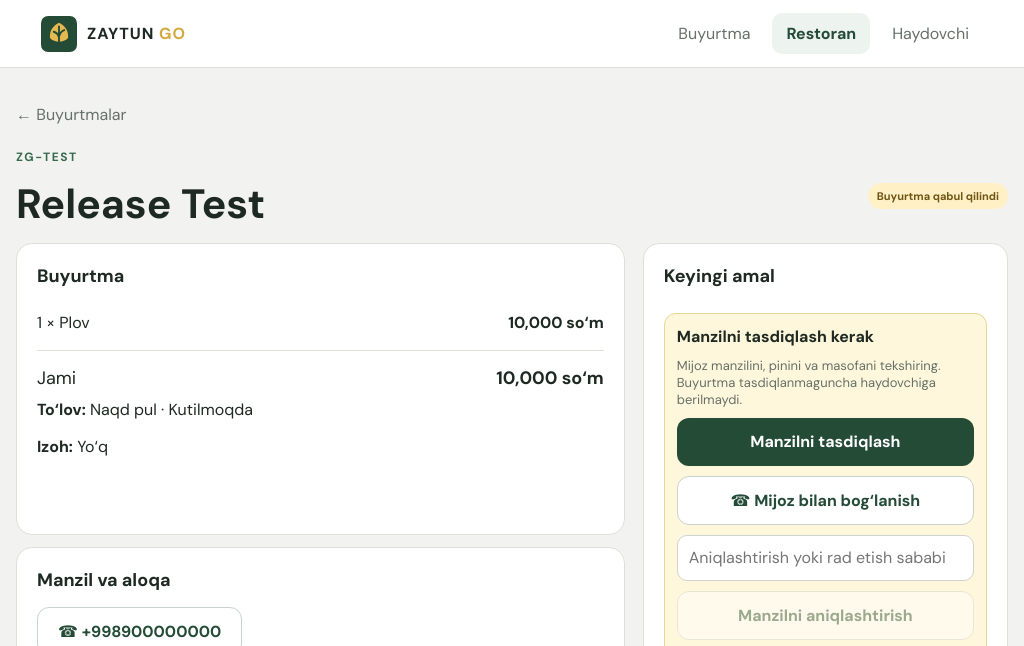
Test case: delivery address review and assignment guard (withOrderLock) › suppresses a rapid duplicate address approval, disables the button, and re-enables after success
Click the button with test id "approve-delivery": (825, 442) [677,418,974,466]
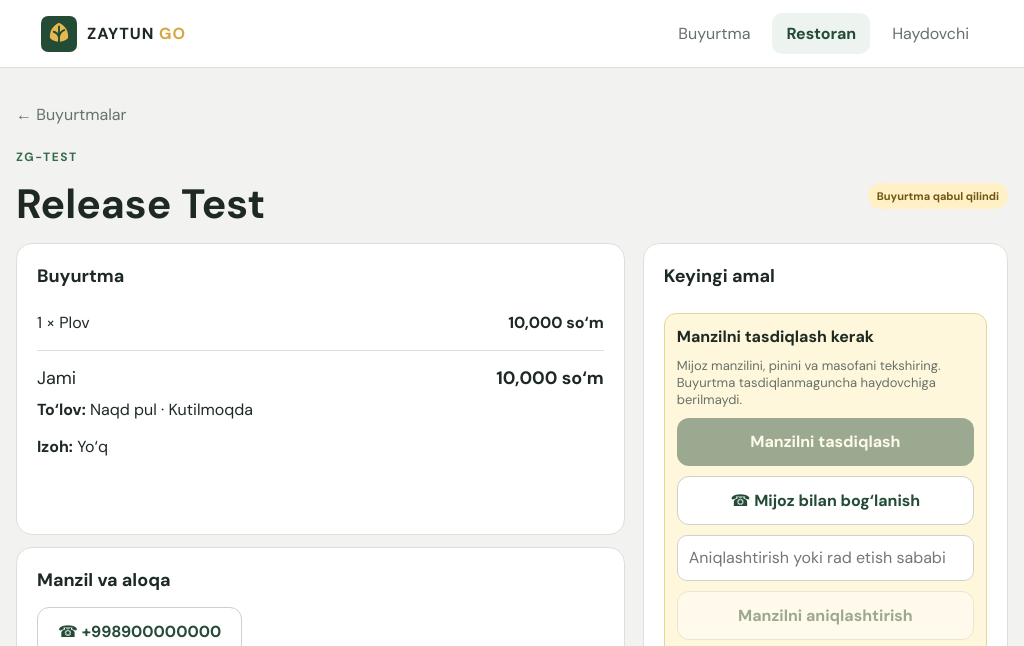
Check: the button with test id "approve-delivery" is disabled
Click the button with test id "approve-delivery": (825, 442) [677,418,974,466]
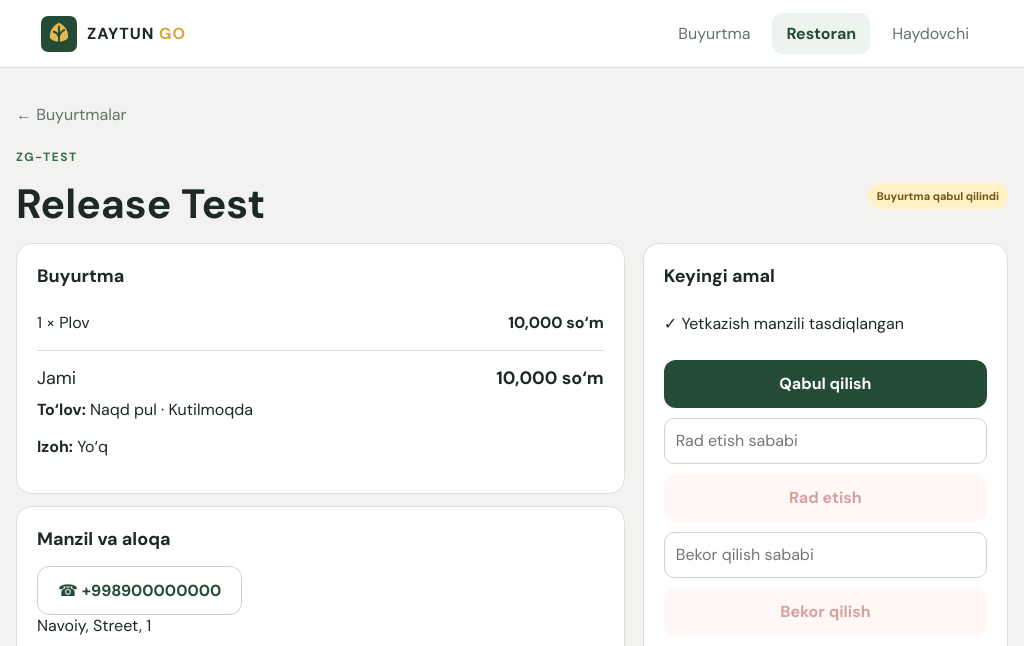
Check: the text "✓ Yetkazish manzili tasdiqlangan" is shown, box [664,313,904,334]
